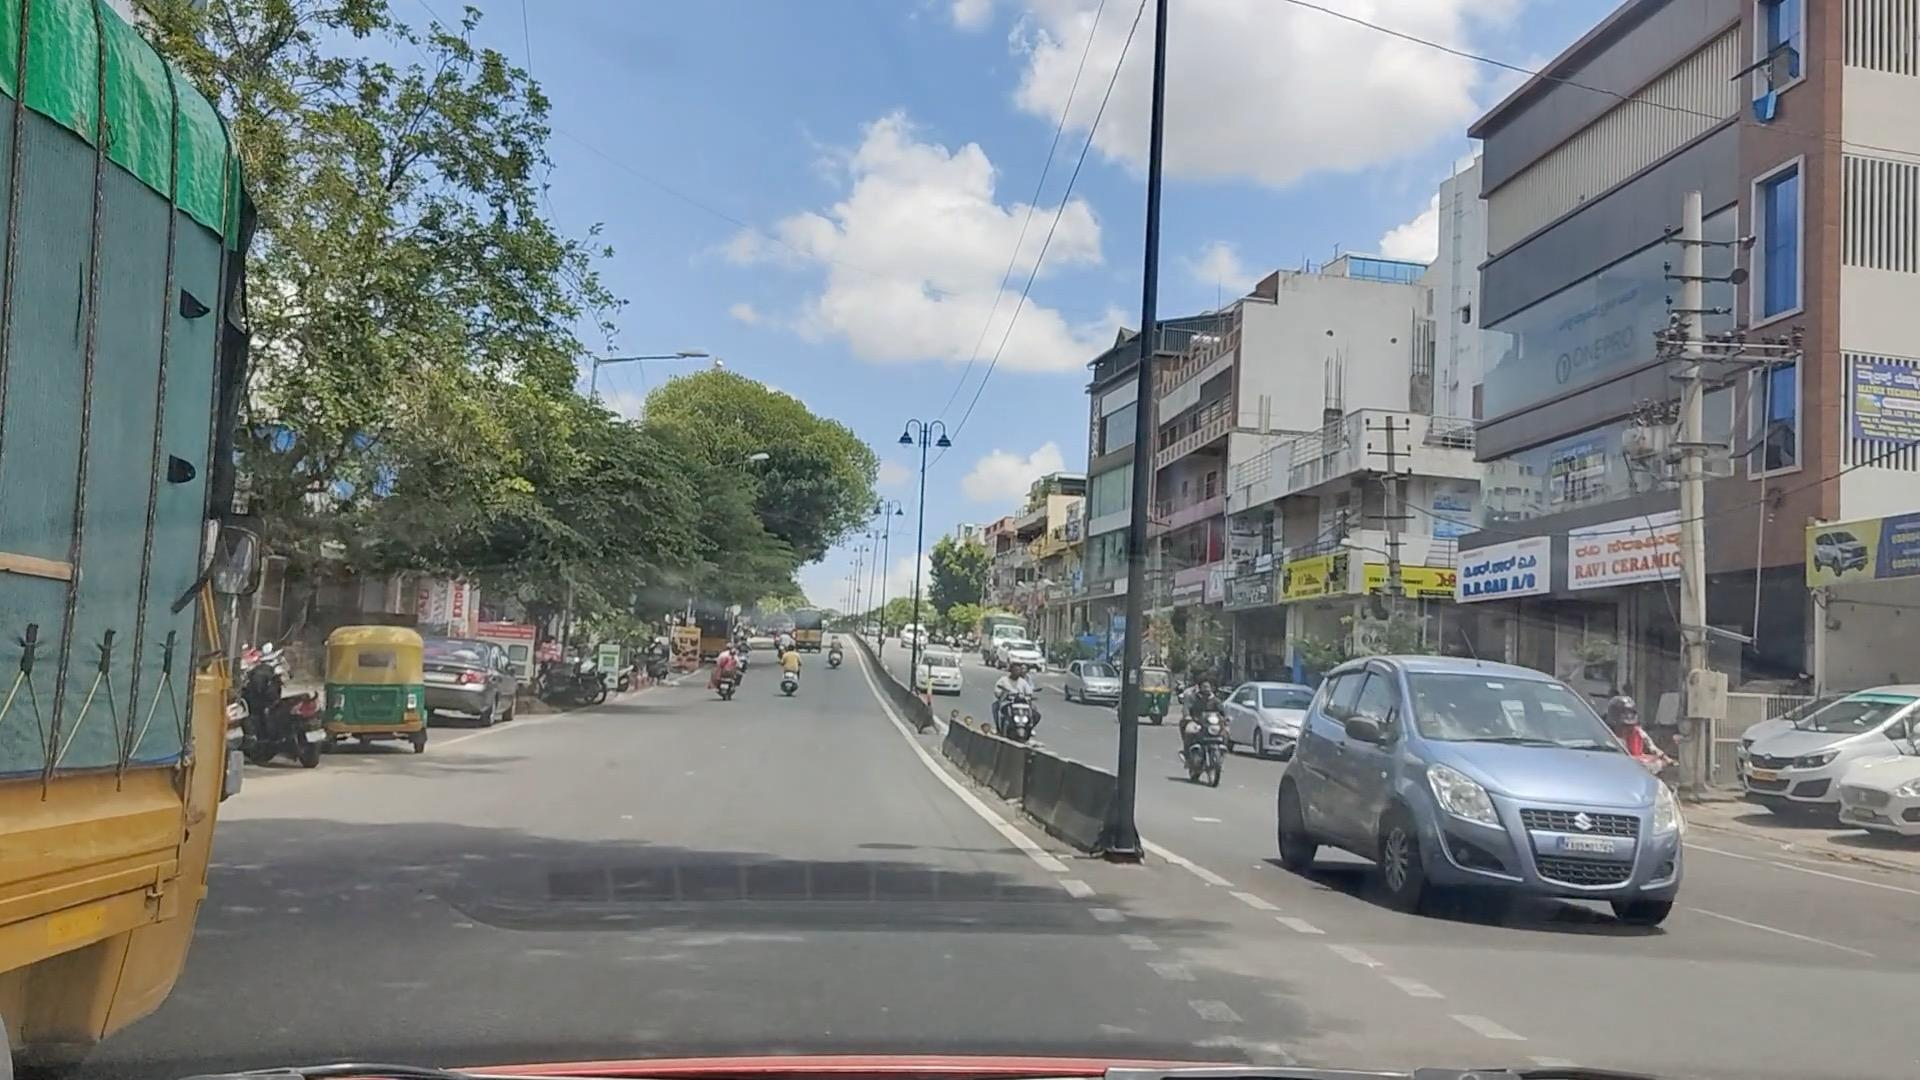LMV: (1296, 646, 1647, 909), (690, 611, 774, 720), (340, 630, 433, 723)
